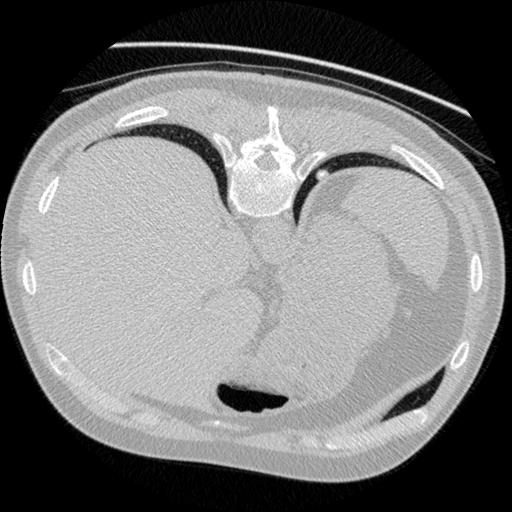nodule: (311, 165, 330, 184)
